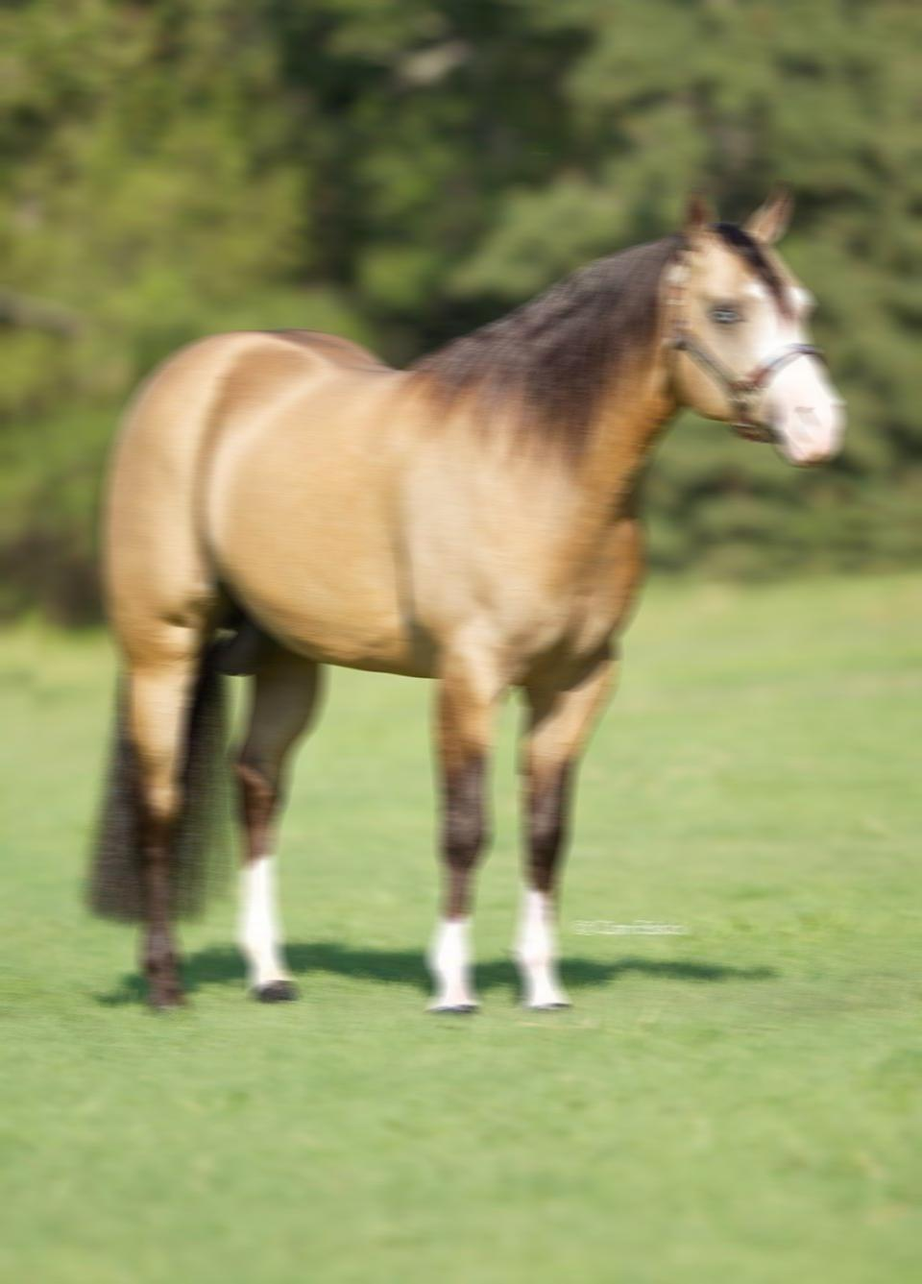horse: (68, 176, 868, 1030)
